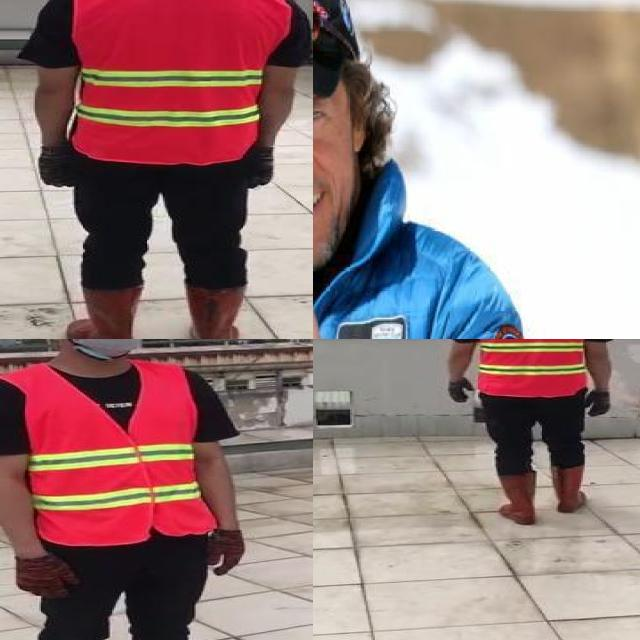boots: (63, 286, 141, 339), (182, 283, 246, 339), (492, 472, 538, 525), (549, 466, 588, 514)
face_nomask: (313, 78, 341, 226)
glasses: (313, 2, 358, 89)
hand_glove: (14, 553, 80, 598), (35, 142, 74, 189), (206, 531, 244, 577), (250, 147, 277, 187), (448, 378, 474, 406), (586, 390, 610, 419)
head_nohelmet: (313, 0, 381, 107)
person: (21, 0, 313, 339), (444, 339, 616, 533)
vest: (18, 362, 215, 544), (72, 0, 287, 164), (470, 339, 593, 395)
